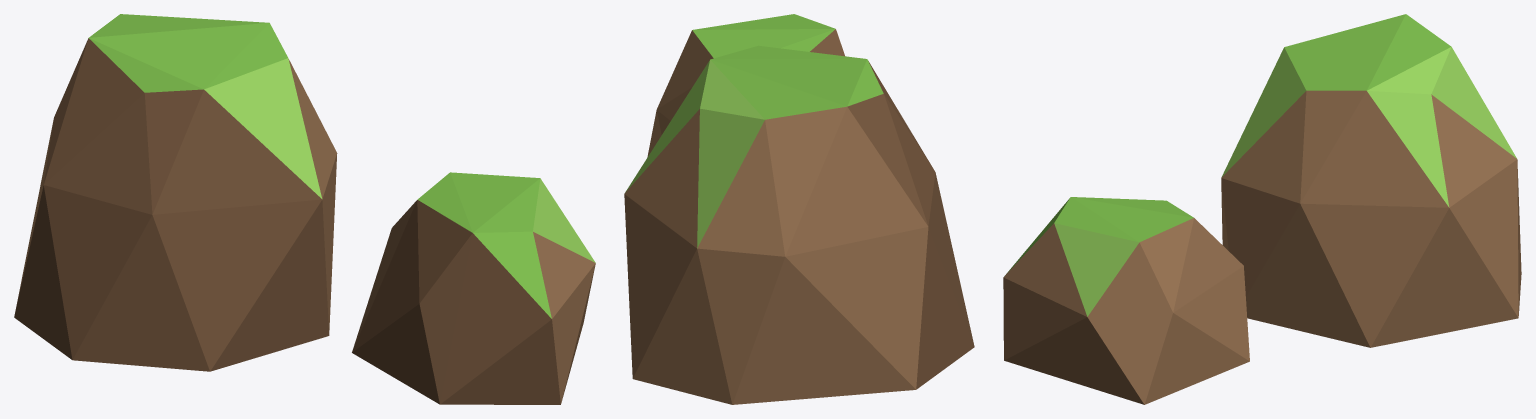
The model's file is rock_largeB.glb.
The picture shows the model from 3 angles, left to right: view 1: azimuth 30°, elevation 25°; view 2: azimuth 150°, elevation 25°; view 3: azimuth 270°, elevation 25°; orthographic projection. The views are drawn at different scales.
Parts seen in each view (by area): view 1: rock_largeB; view 2: rock_largeB; view 3: rock_largeB.
Boxes of the visible parts, x1,y1,x2,y2 form: rock_largeB: (14, 14, 595, 404); rock_largeB: (624, 14, 974, 404); rock_largeB: (1003, 14, 1521, 404).
Size of the model in its own units: 0.7156 by 0.4285 by 0.8471.
1 material, 1 textured.
